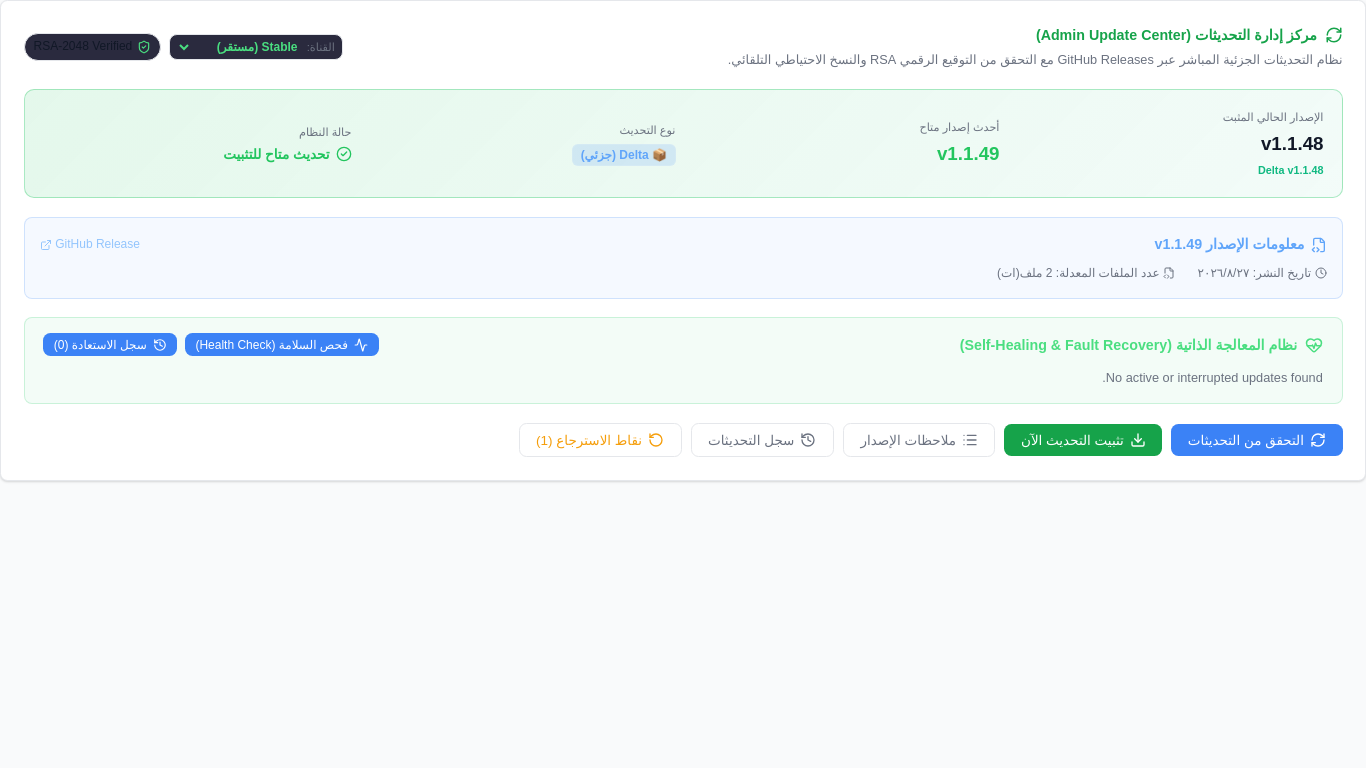
Test case: UpdateSection Admin Update Center Flow › renders string-based changelog cleanly without throwing length errors
Click the button "ملاحظات الإصدار". click: [919, 440]
box: [843,423,996,457]
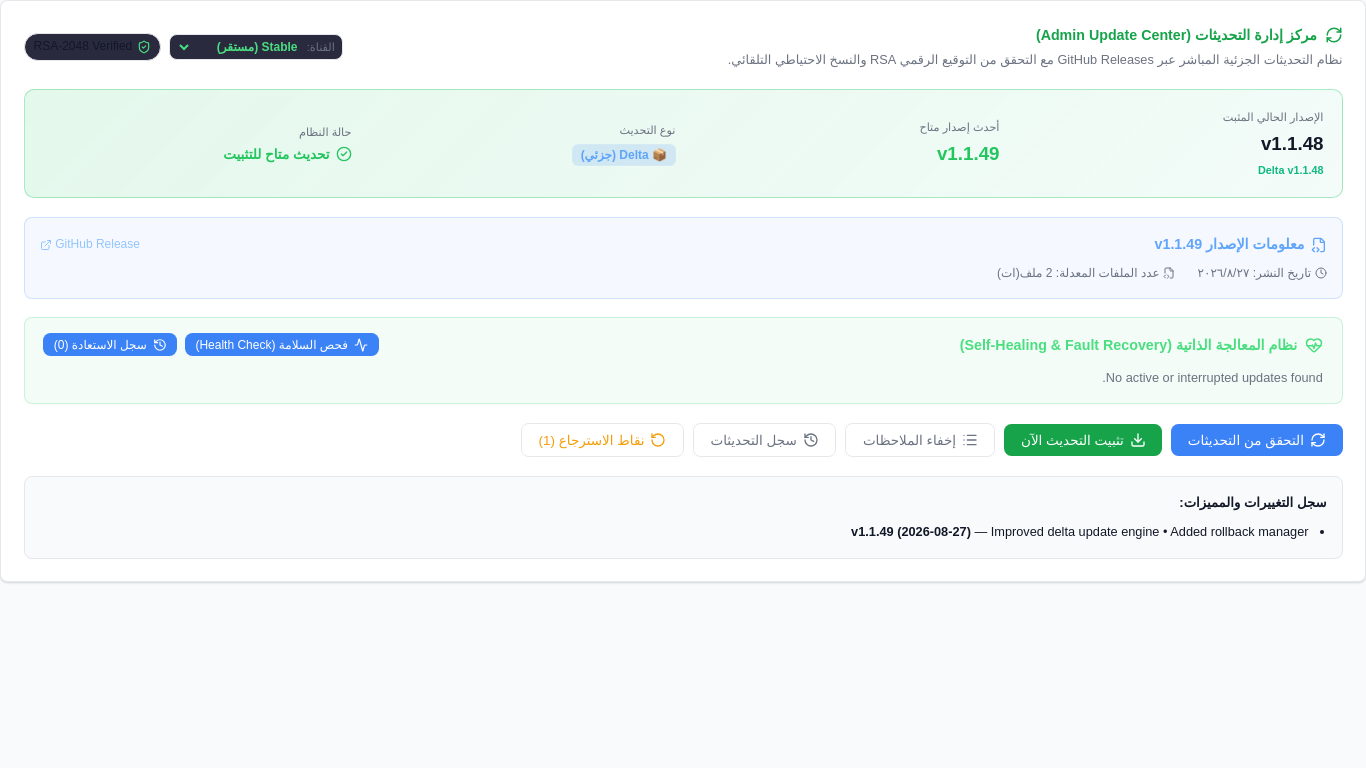
Expected: the text "سجل التغييرات والمميزات" is shown, [1179,495,1327,510]
Expected: the text "Improved delta update engine" is shown, [991,524,1308,539]
